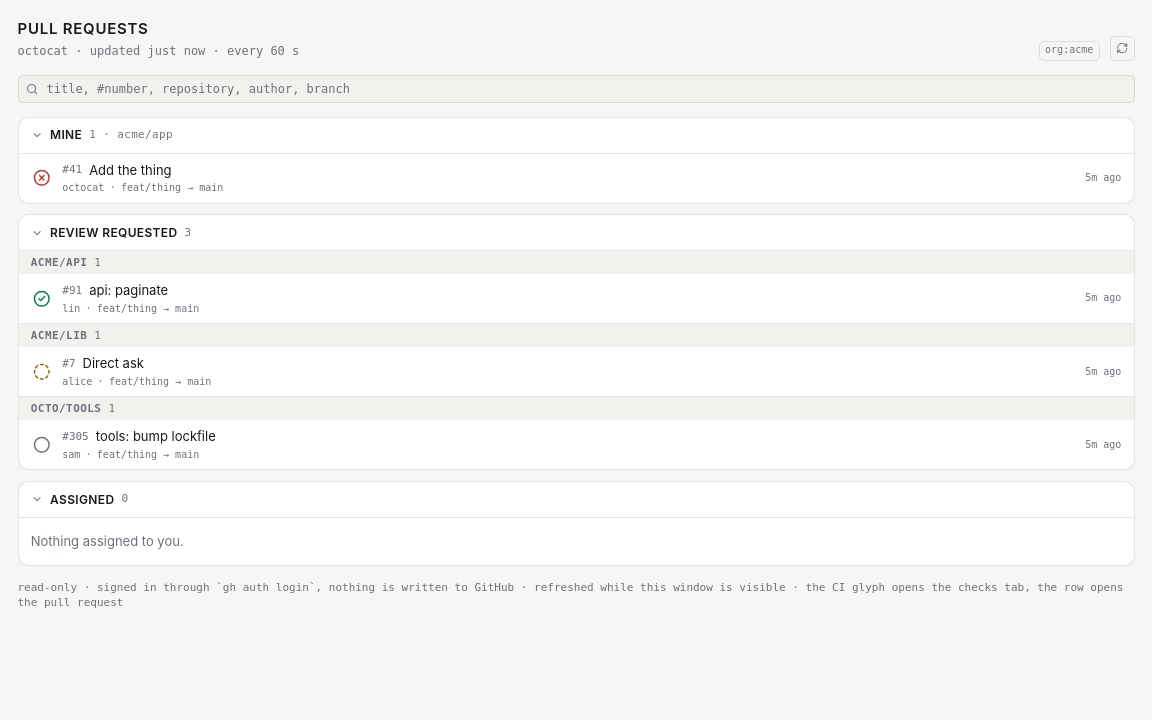
Test: Github › groups a list that spans several repositories under one sub-heading per repository
This screenshot has width=1152, height=720.
expect the text "Direct ask" is shown: met, box [82,354,144,373]
expect the heading "Review requested 3" is shown: met, box [18,215,1134,250]
Type "octo/" into the search field.
click(576, 89); type("octo/")  # box [18,75,1134,103]
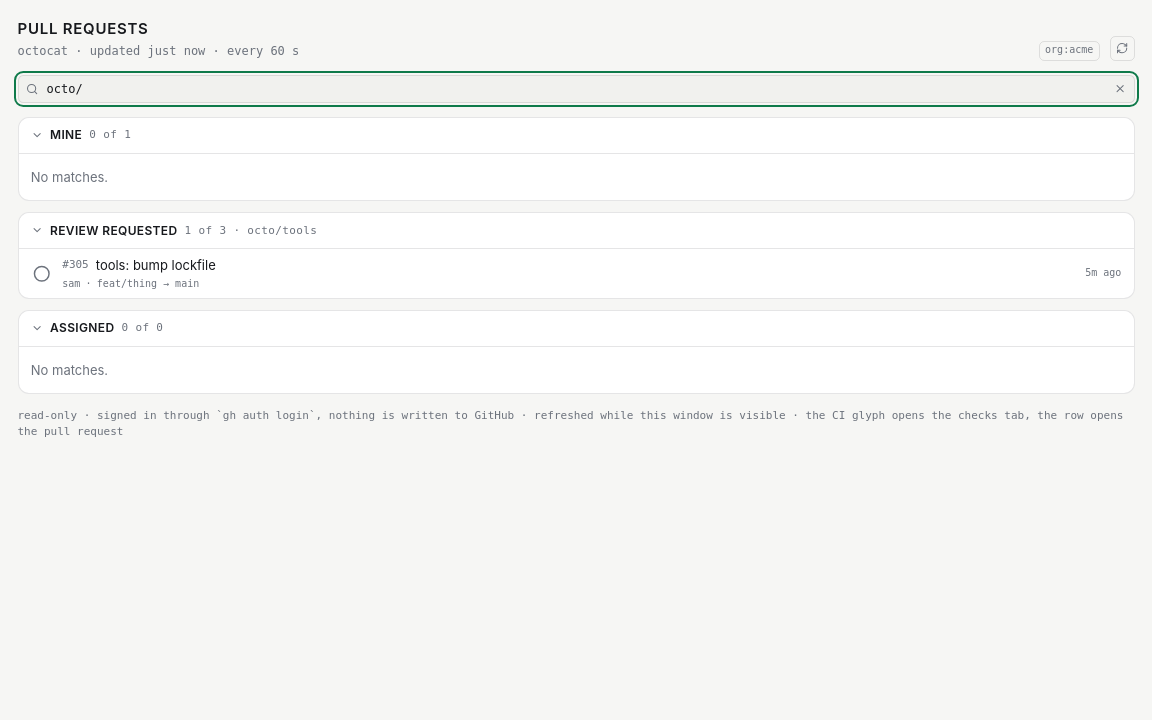
expect the text "tools: bump lockfile" is shown: met, box [96,256,216,275]
expect the heading "Review requested 1 of 3 · octo/tools" is shown: met, box [18,213,1134,248]
